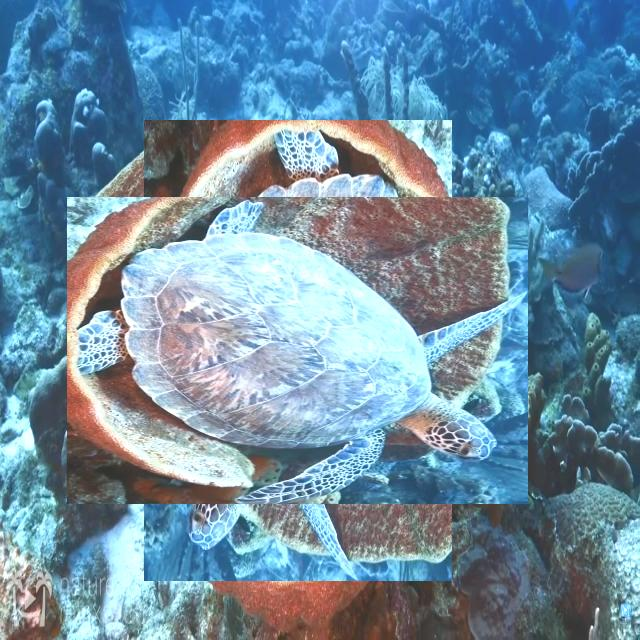Sea turtle: (106, 158, 490, 543)
